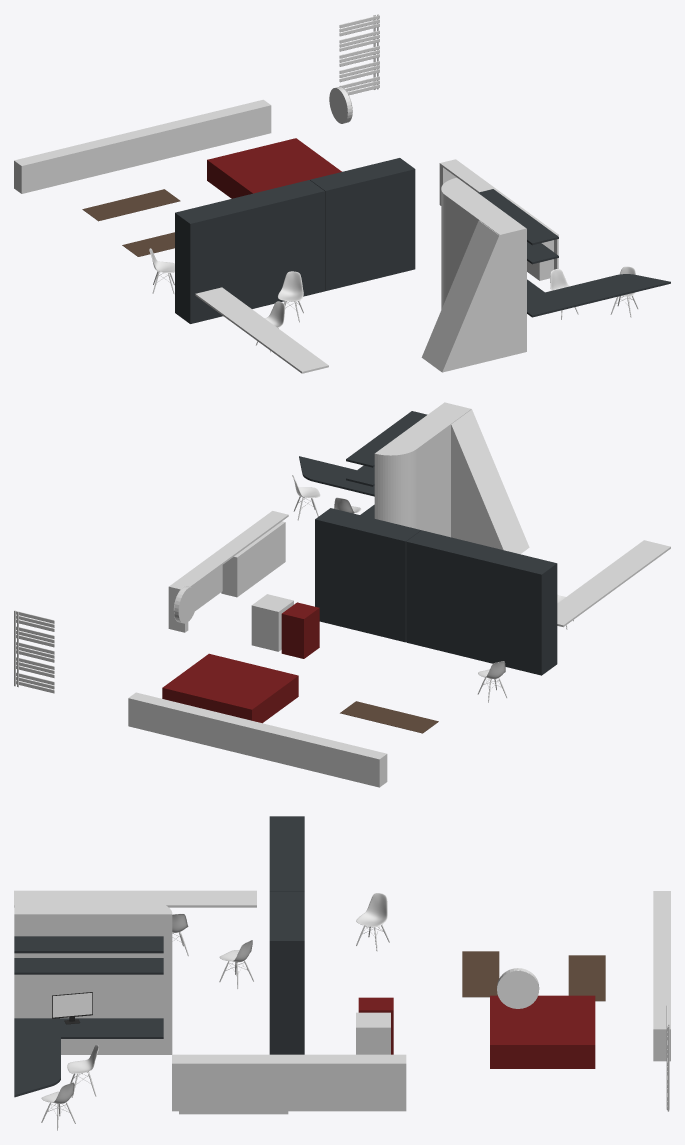
The model's file is OG_Möbel.glb.
3 views of the same model, one above another, from view 1: azimuth 30°, elevation 25°; view 2: azimuth 150°, elevation 25°; view 3: azimuth 270°, elevation 25° (orthographic). The views are drawn at different scales.
Parts seen in each view (by area): view 1: Curve.054, Kleiderschrank_202.002, Curve.058, _Curve.010, Curve.059, Curve.055, Curve.051, Heizkörper.002, Curve.052, Curve.049, Curve.053, _Curve.014 (+4 smaller); view 2: Curve.054, Kleiderschrank_202.002, Curve.058, _Curve.010, Curve.059, Curve.055, Curve.053, Curve.051, Heizkörper.002, Kleiderschrank_202.006, Kleiderschrank_202.001, Curve.056 (+5 smaller); view 3: Curve.053, _Curve.010, Curve.055, Kleiderschrank_202.002, Curve.051, Curve.059, Curve.058, _Curve.011, Curve.054, _Curve.014, _Curve.012, Curve.052 (+10 smaller).
Part boxes in pixels (x1,y1,x2,y2): Curve.054: [175, 180, 324, 323]; Kleiderschrank_202.002: [310, 158, 415, 291]; Curve.058: [14, 99, 271, 193]; _Curve.010: [441, 177, 526, 358]; Curve.059: [421, 220, 526, 372]; Curve.055: [207, 138, 341, 198]; Curve.051: [195, 287, 328, 373]; Heizkörper.002: [339, 14, 379, 95]; Curve.052: [545, 274, 670, 309]; Curve.049: [82, 189, 180, 221]; Curve.053: [439, 159, 558, 269]; _Curve.014: [478, 189, 558, 245]; Curve.054: [406, 530, 557, 675]; Kleiderschrank_202.002: [315, 508, 421, 642]; Curve.058: [128, 692, 387, 787]; _Curve.010: [374, 402, 471, 537]; Curve.059: [451, 409, 529, 554]; Curve.055: [162, 653, 298, 723]; Curve.053: [168, 511, 288, 632]; Curve.051: [557, 540, 670, 627]; Heizkörper.002: [14, 610, 54, 693]; Kleiderschrank_202.006: [281, 602, 319, 658]; Kleiderschrank_202.001: [251, 594, 293, 651]; Curve.056: [221, 539, 261, 597]; Curve.053: [172, 1054, 406, 1111]; _Curve.010: [14, 899, 172, 1054]; Curve.055: [490, 995, 595, 1068]; Kleiderschrank_202.002: [269, 891, 304, 1054]; Curve.051: [14, 890, 256, 907]; Curve.059: [14, 915, 60, 1018]; Curve.058: [653, 891, 670, 1061]; _Curve.011: [14, 1018, 163, 1038]; Curve.054: [269, 816, 304, 891]; _Curve.014: [14, 936, 163, 953]; _Curve.012: [14, 958, 163, 974]; Curve.052: [14, 1037, 60, 1097].
Bounding box in the file's own units: 8.28 × 2.71 × 11.22.
11 materials, 1 textured.
